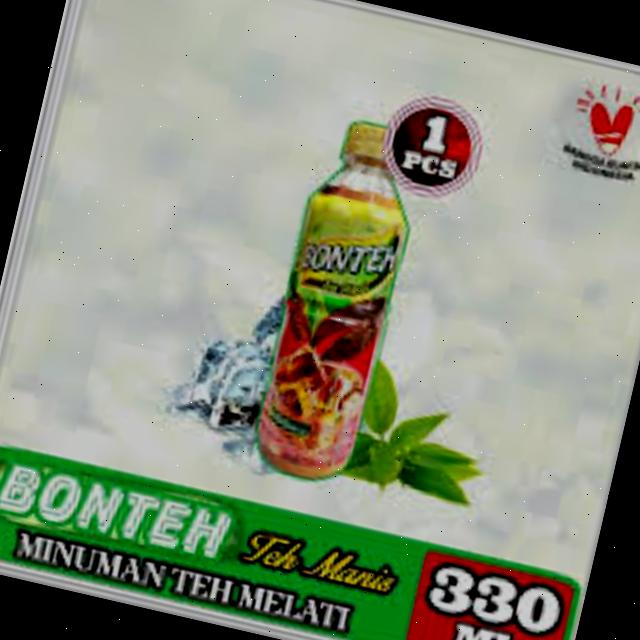trash: (242, 110, 433, 493)
